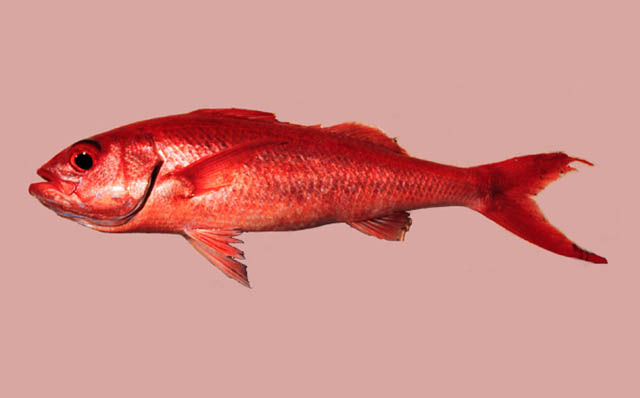fish: (28, 108, 610, 290)
